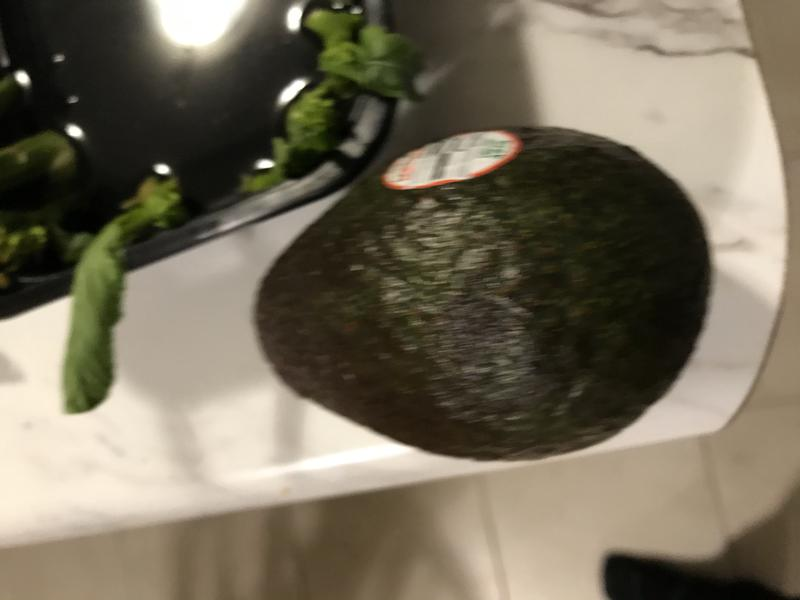avocado: (237, 108, 722, 477)
